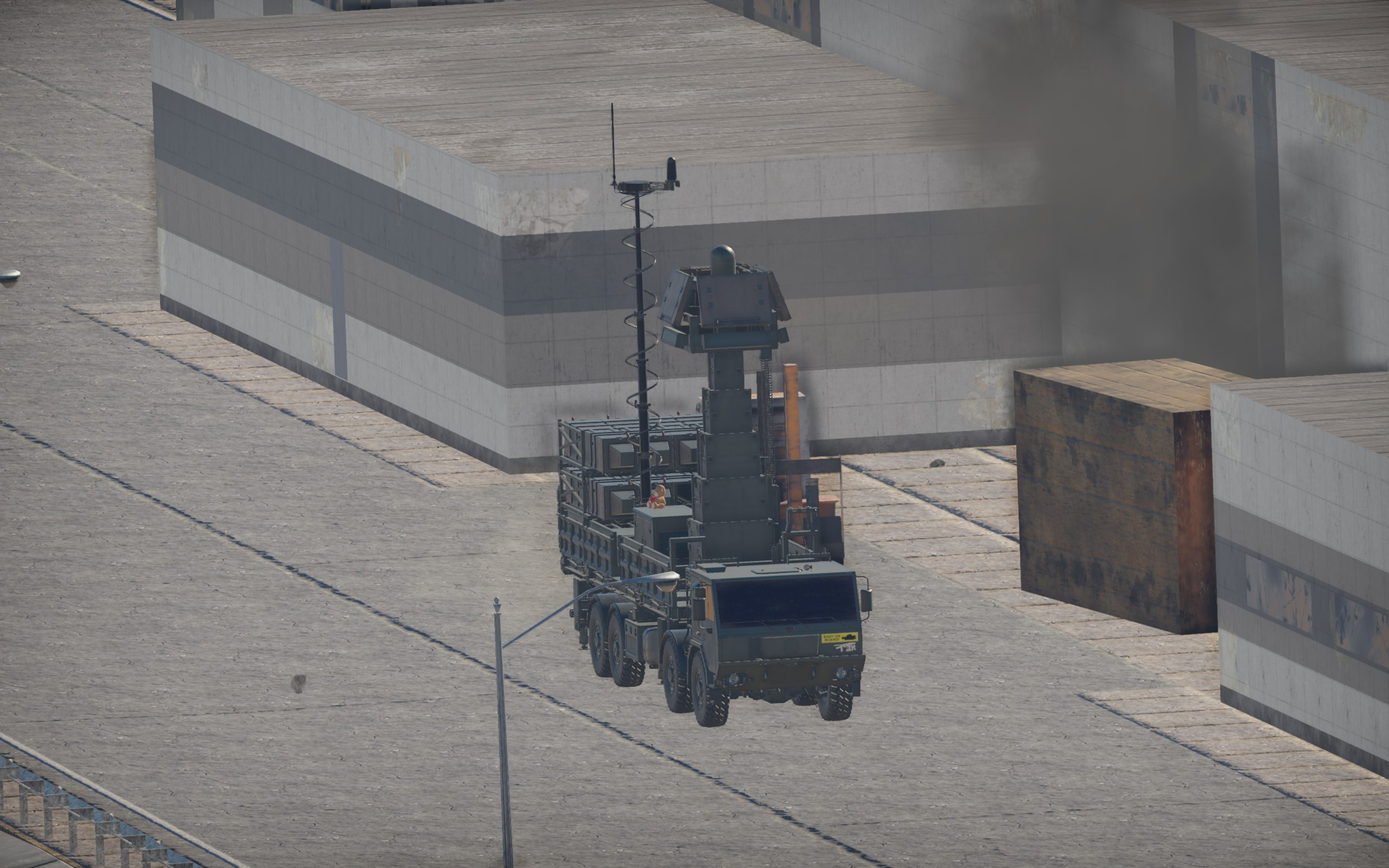spaa_TEL: (555, 158, 872, 728)
